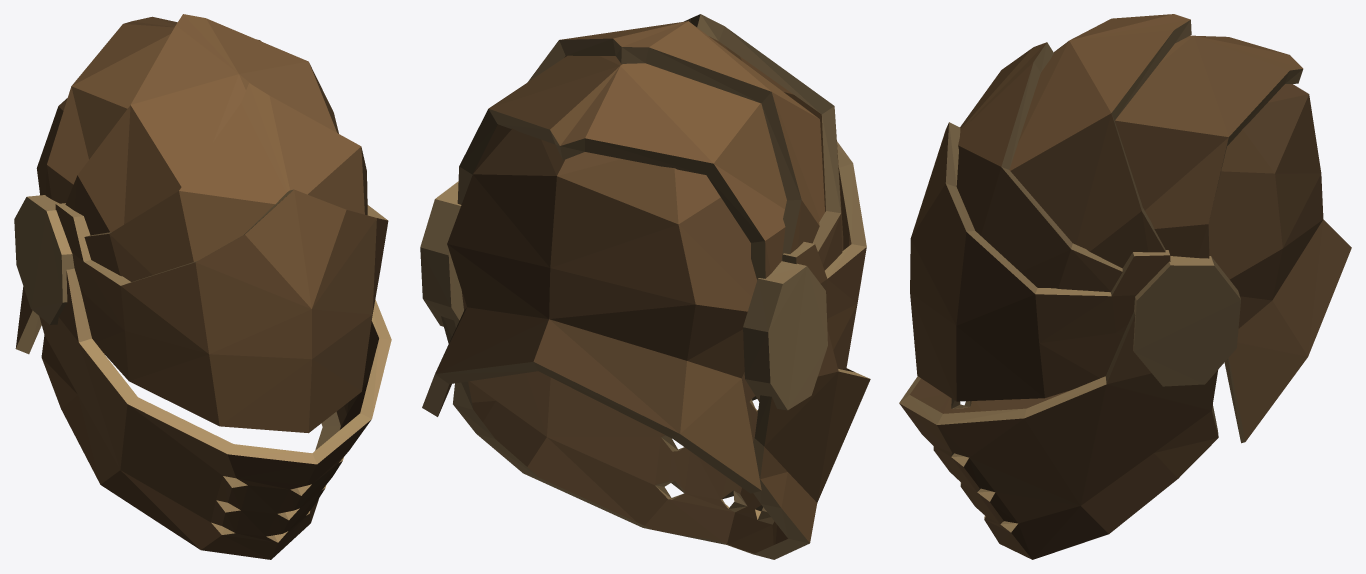
Rendered from bronze_head.glb.
3 views of the same model, side by side, from view 1: azimuth 30°, elevation 25°; view 2: azimuth 150°, elevation 25°; view 3: azimuth 270°, elevation 25° (orthographic). The views are drawn at different scales.
Visible parts, largest first — view 1: bronze_head; view 2: bronze_head; view 3: bronze_head.
Part boxes in pixels (x1,y1,x2,y2): bronze_head: (14,14,391,559); bronze_head: (420,14,870,559); bronze_head: (899,14,1351,559).
Size of the model in its own units: 0.6368 by 1 by 0.7829.
